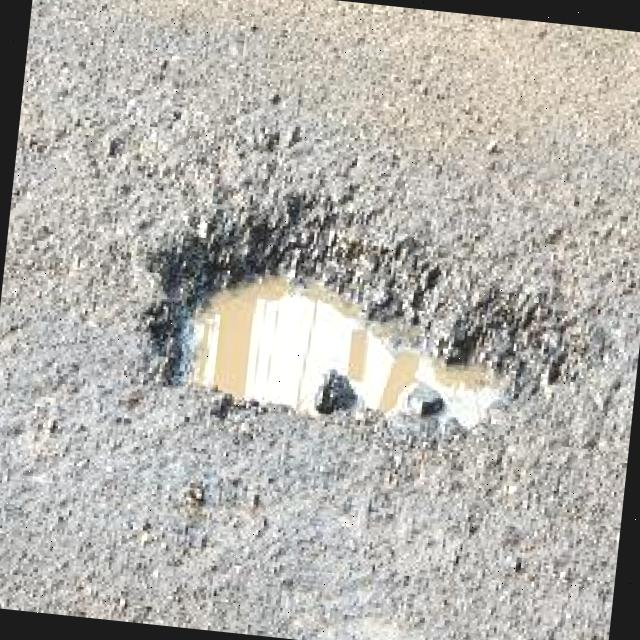waterlogging: (125, 169, 571, 489)
